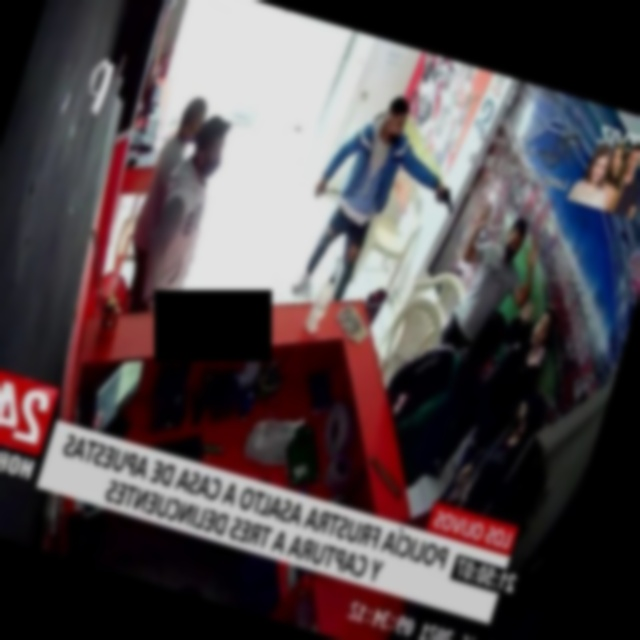gun: (424, 167, 467, 226)
